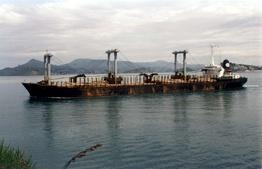Cargoship: (17, 32, 248, 99)
